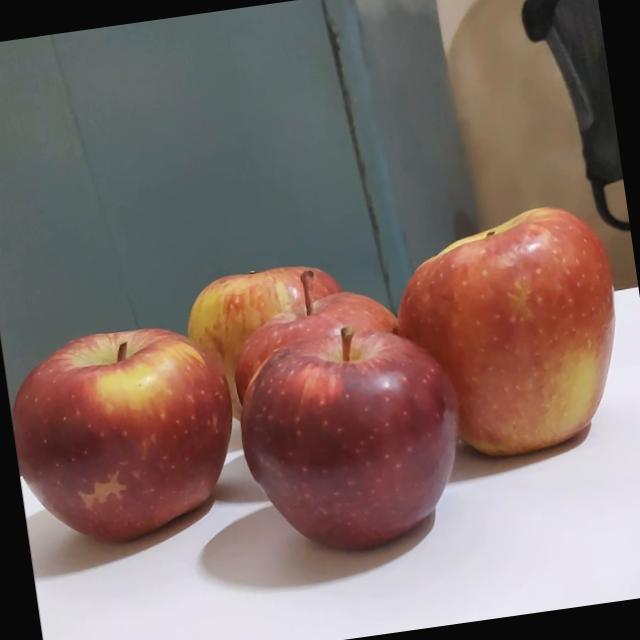apple: (1, 316, 262, 557), (393, 203, 632, 465), (233, 314, 473, 560), (227, 258, 422, 488), (179, 249, 355, 446)
